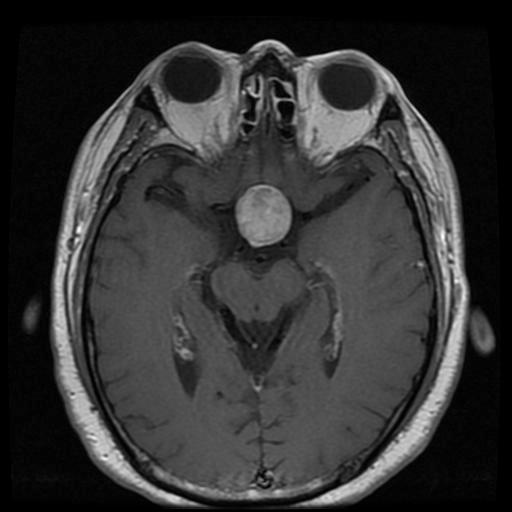Tumour-Pituitary: (231, 180, 298, 256)
